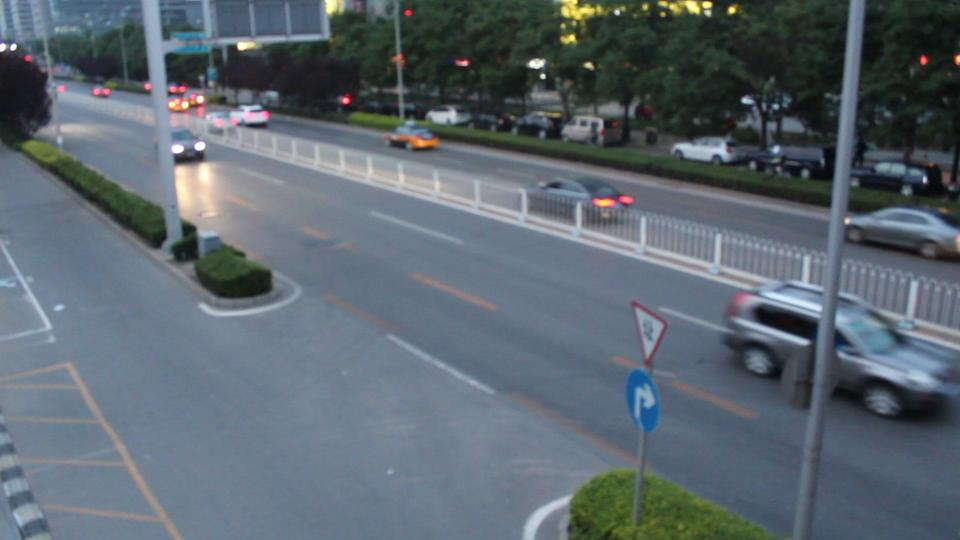Car: (729, 283, 934, 408), (837, 208, 960, 253), (515, 178, 627, 219), (383, 122, 438, 150), (159, 126, 205, 158), (228, 105, 272, 128), (203, 109, 235, 131)
